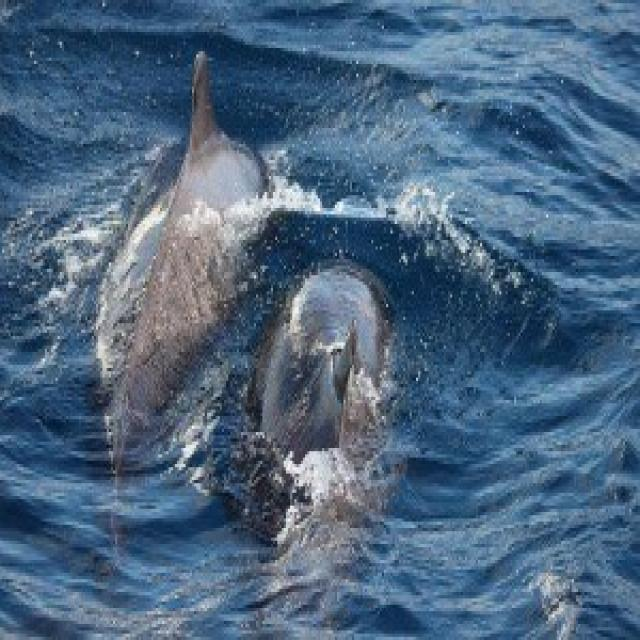Dolphin: (236, 230, 443, 521), (105, 32, 239, 460)
